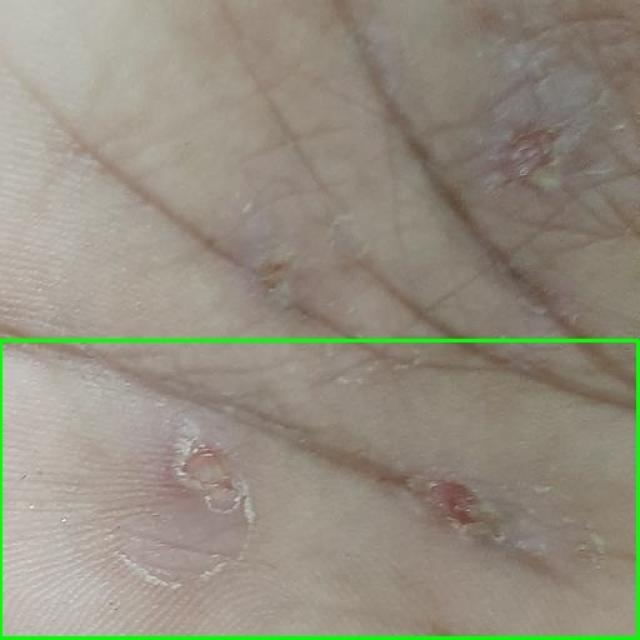Scabies: (0, 341, 639, 639)
